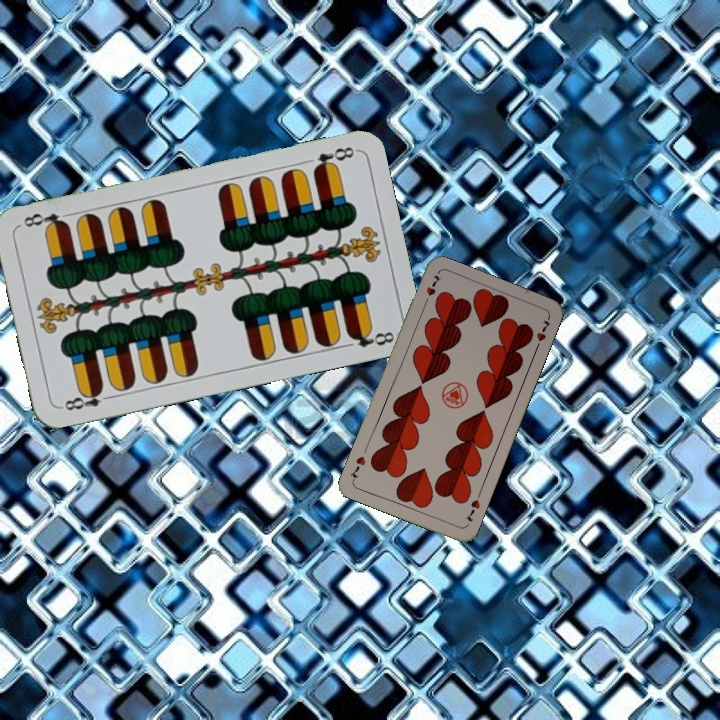E8: (57, 384, 116, 414), (309, 143, 357, 174)
H7: (419, 271, 443, 308), (461, 495, 483, 524)
